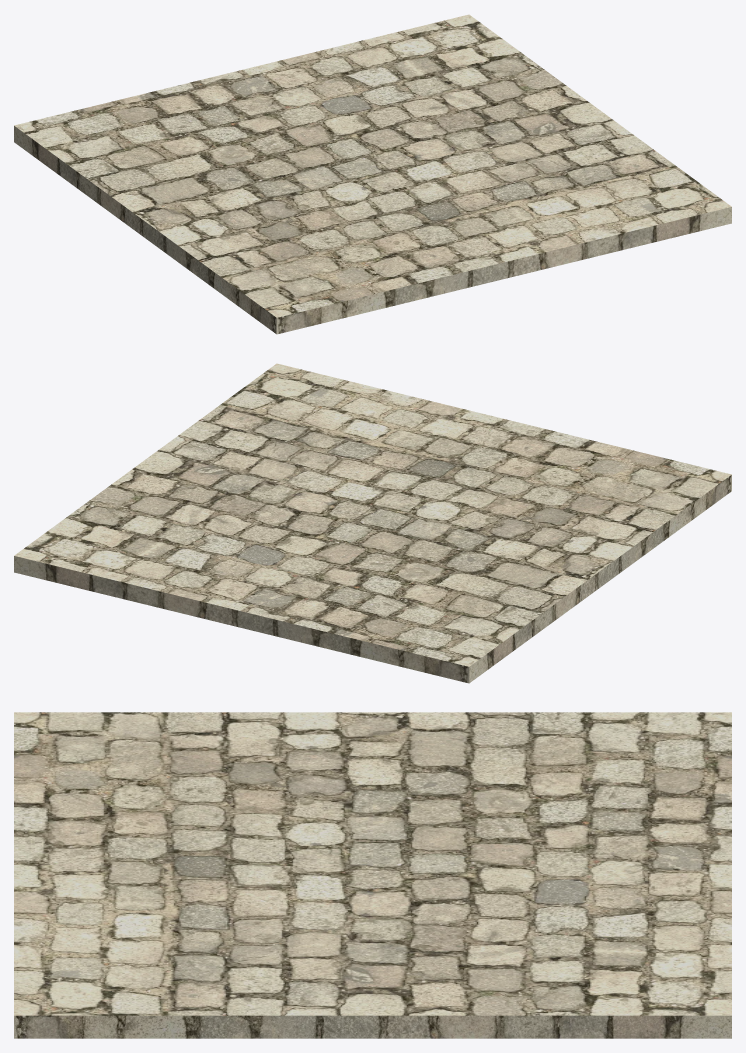
Rendered from infra_tile_t1_plaza.glb.
3 renders of one model, top to bottom at view 1: azimuth 30°, elevation 25°; view 2: azimuth 150°, elevation 25°; view 3: azimuth 270°, elevation 25°, orthographic. The views are drawn at different scales.
Parts seen in each view (by area): view 1: plaza; view 2: plaza; view 3: plaza.
Part boxes in pixels (box(x1,y1,x2,y2)): plaza: box(14, 14, 731, 334); plaza: box(14, 363, 731, 683); plaza: box(14, 712, 731, 1038).
Size of the model in its own units: 2 by 0.07 by 2.
Materials: 1 (1 with a texture image).
